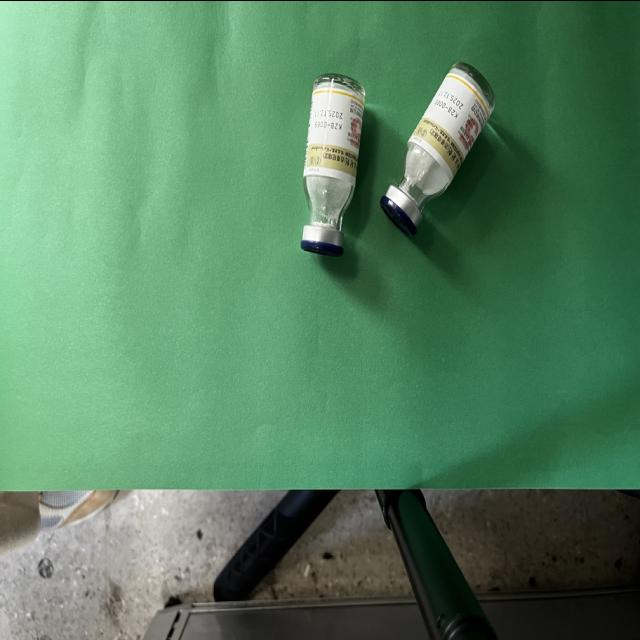Vials: (380, 61, 496, 235), (301, 72, 366, 256)
